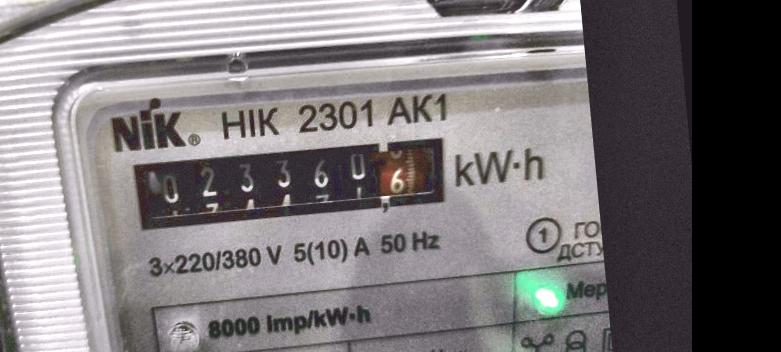0: (158, 169, 182, 204), (348, 148, 367, 181)
2: (195, 163, 221, 199)
3: (233, 159, 257, 193), (272, 155, 294, 188)
6: (308, 155, 331, 188), (384, 163, 408, 193)
screen: (113, 117, 463, 246)
